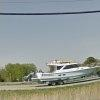Boat: (31, 56, 100, 97)
